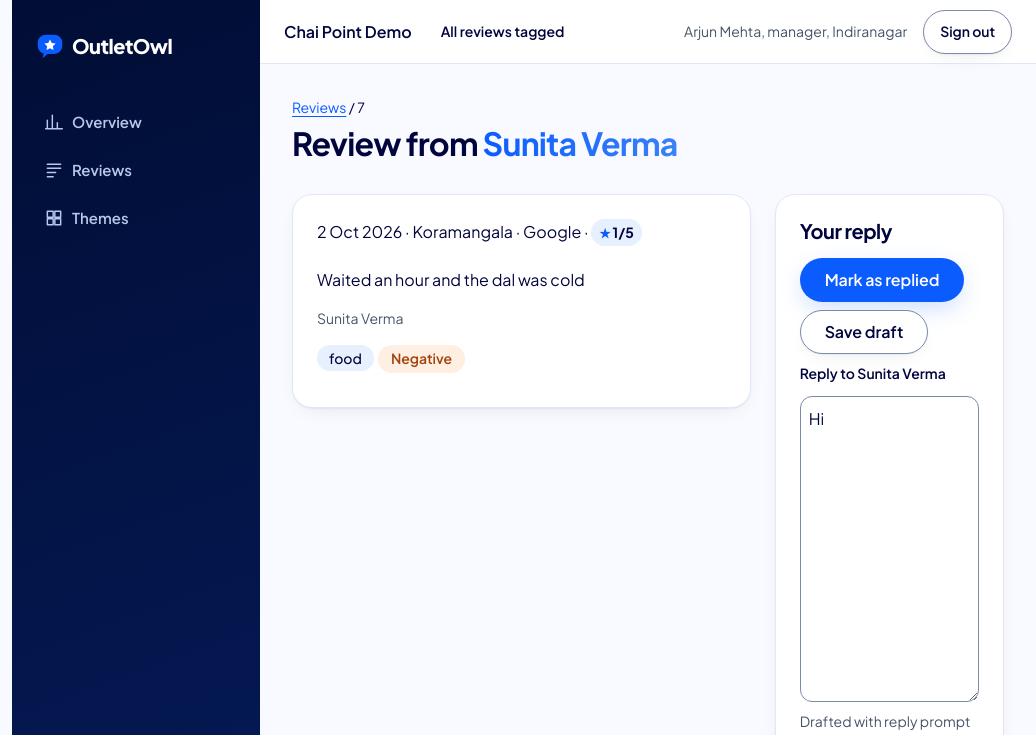
Test case: ReviewPage › reloading after a conflict keeps the typed text and saves on the newer reply
The width and height of the screenshot is (1036, 735).
Replace the text in the text box labelled "Reply to Sunita Verma" with "My long edit" at (889,549), box [800,396,979,702]
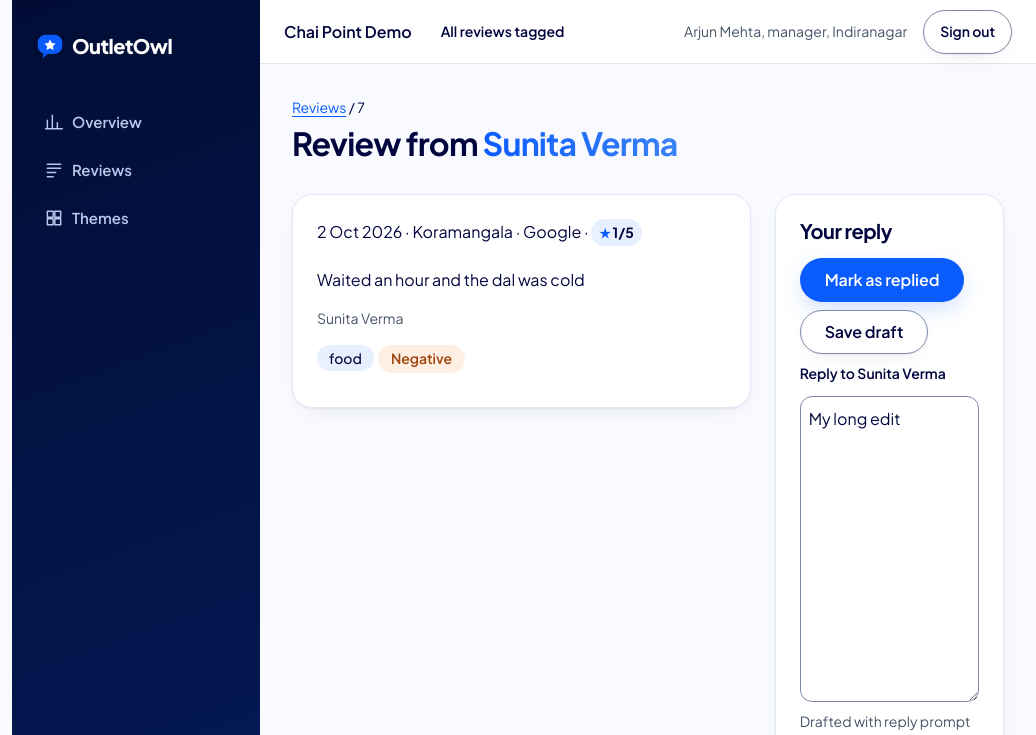
Click the button "Save draft" at (864,332), box [800,310,928,354]
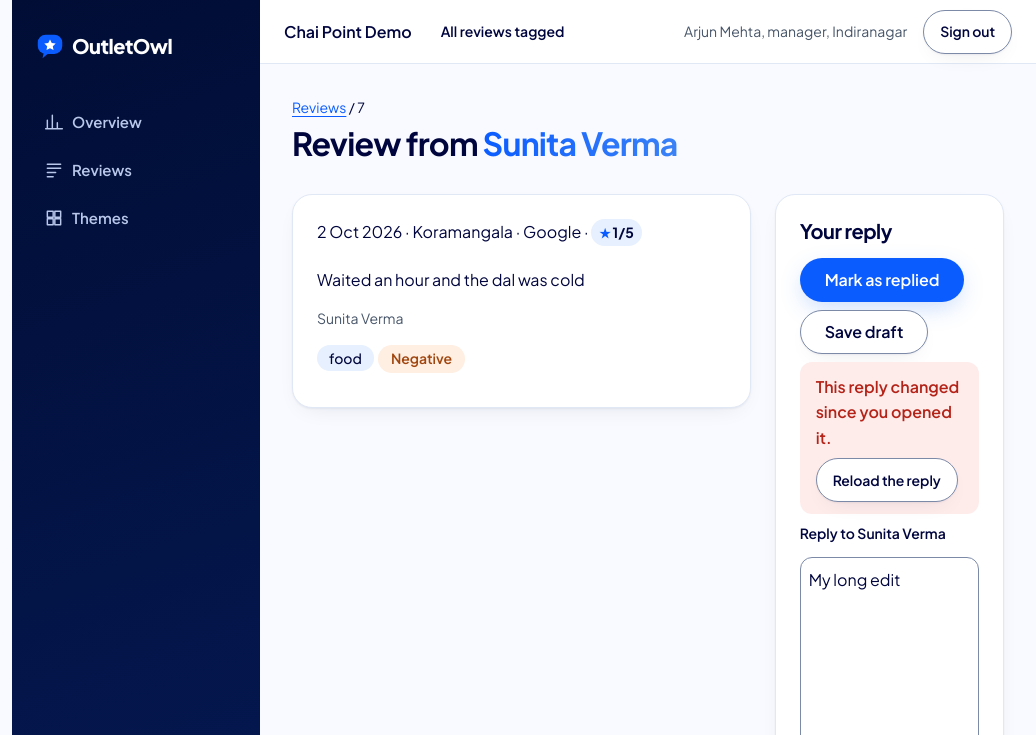
Click the button "Reload the reply" at (887,480), box [816,458,958,502]
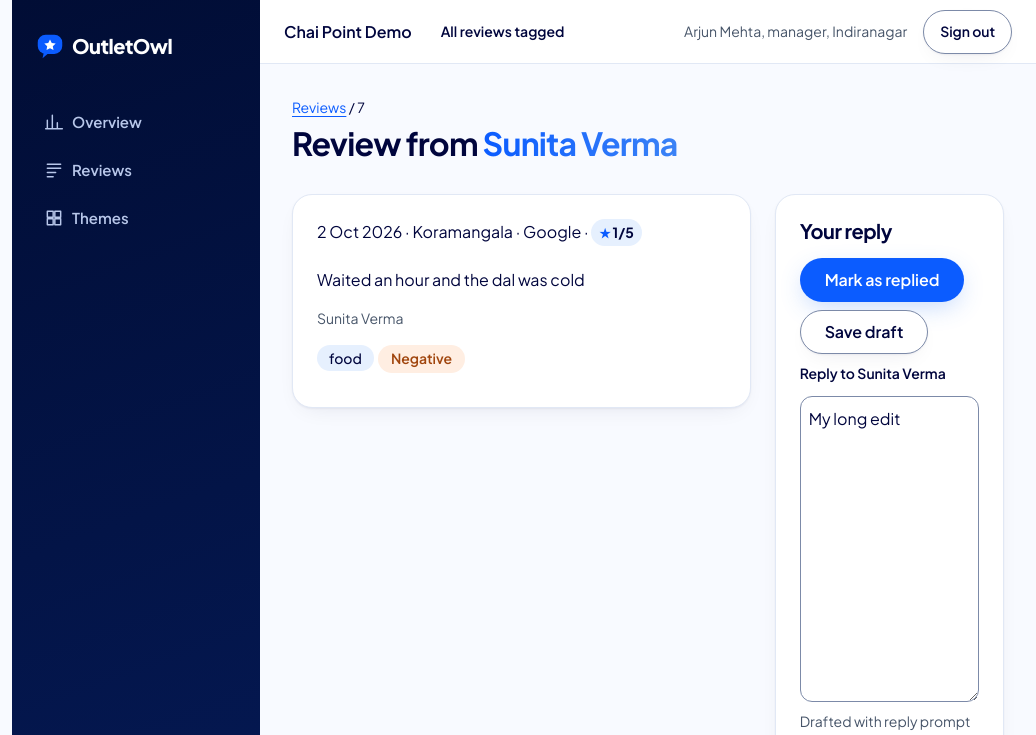
Click the button "Save draft" at (864,332), box [800,310,928,354]
(page scrolled)
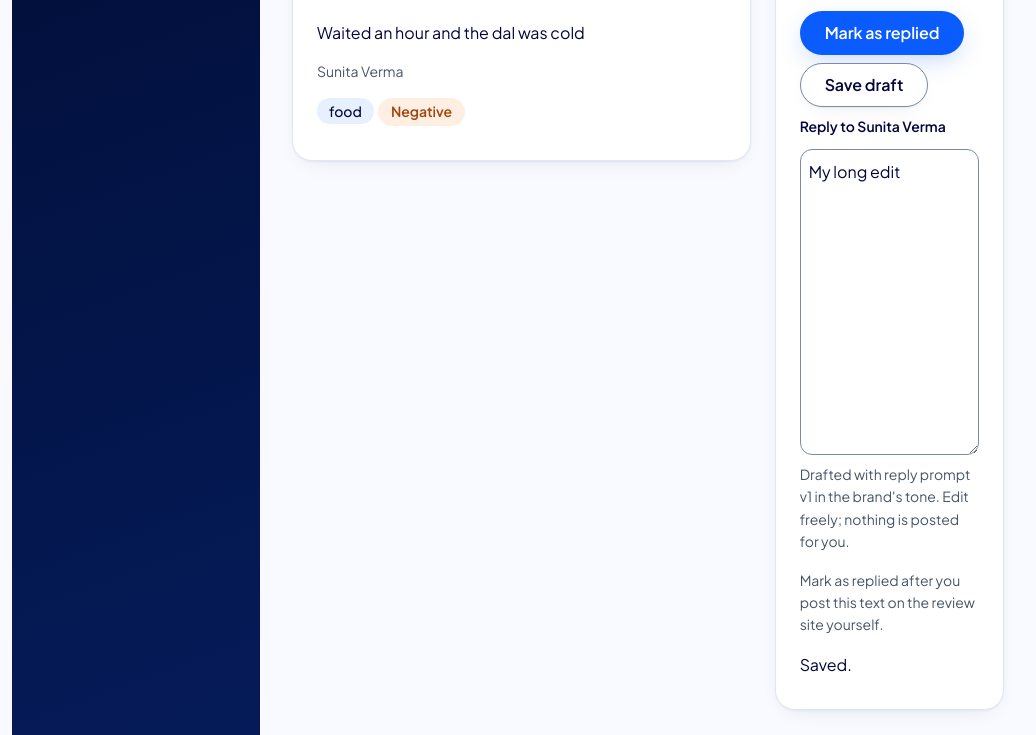
Expected: the text "Saved." is shown, [800,654,852,675]
